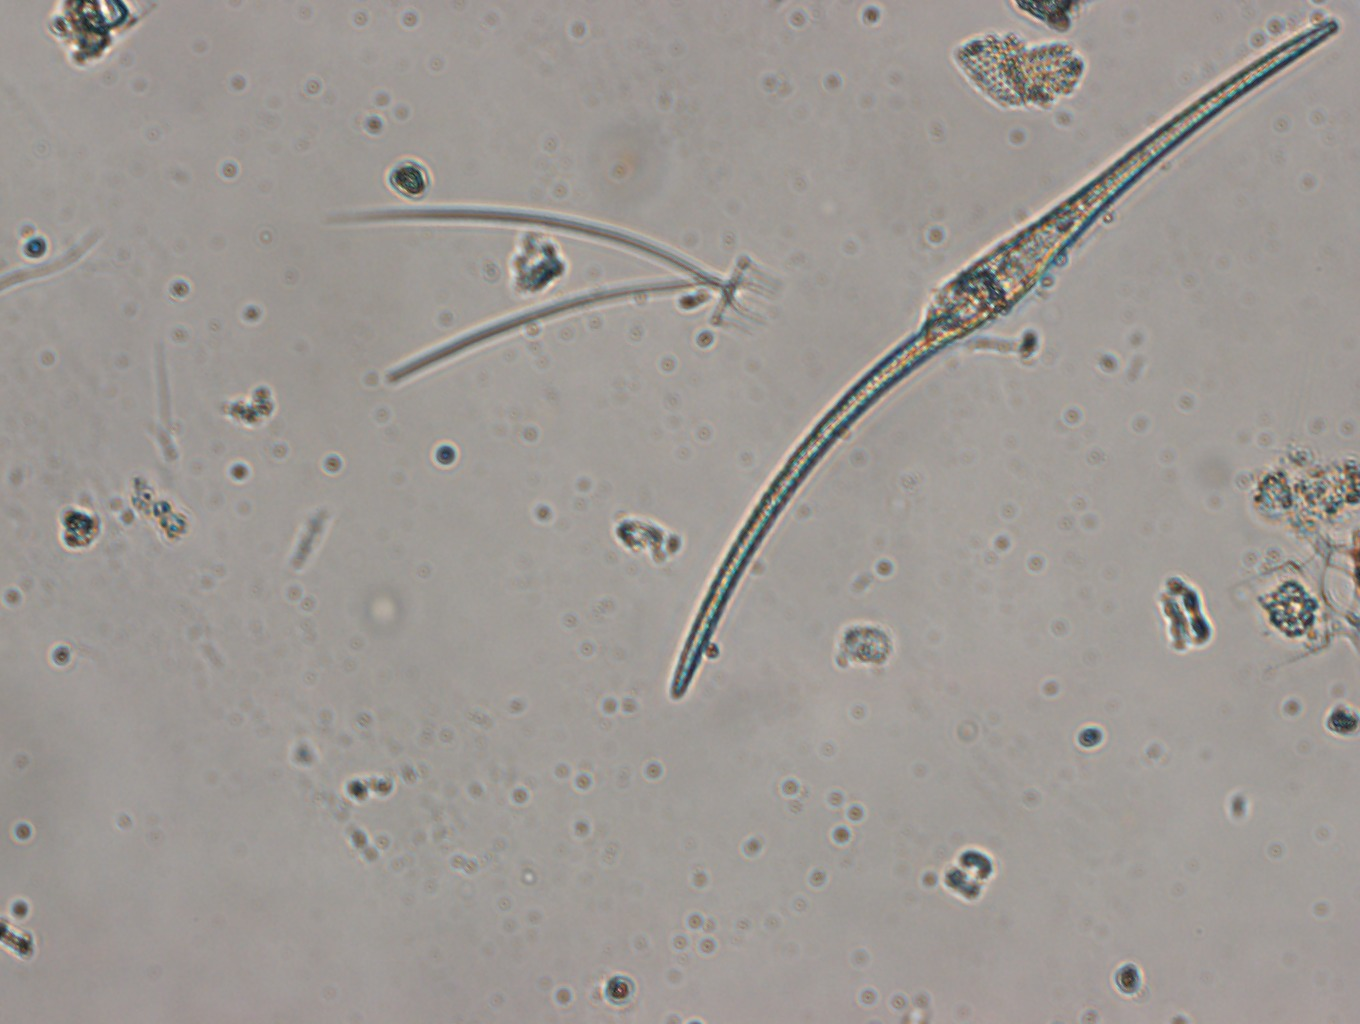ceratium fusus: (665, 10, 1349, 703)
